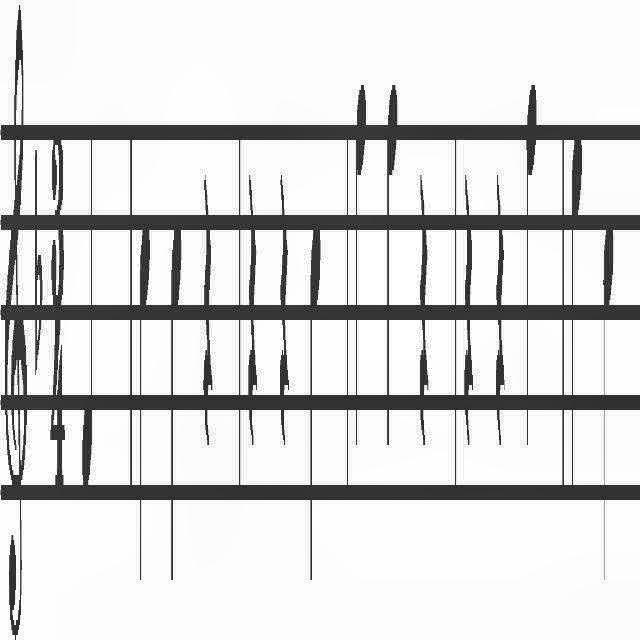Bass-clef: (1, 0, 32, 640)
Bemol: (31, 122, 45, 374)
Quarter-note: (76, 106, 94, 498), (523, 65, 539, 475), (308, 206, 324, 584), (166, 213, 182, 581), (385, 41, 399, 456), (354, 65, 368, 448), (601, 197, 615, 575), (571, 100, 583, 504), (136, 222, 150, 566)
Quarter-rest: (490, 130, 508, 464), (417, 142, 431, 470), (275, 138, 289, 462), (202, 155, 216, 441), (462, 149, 474, 475), (247, 162, 260, 450)
